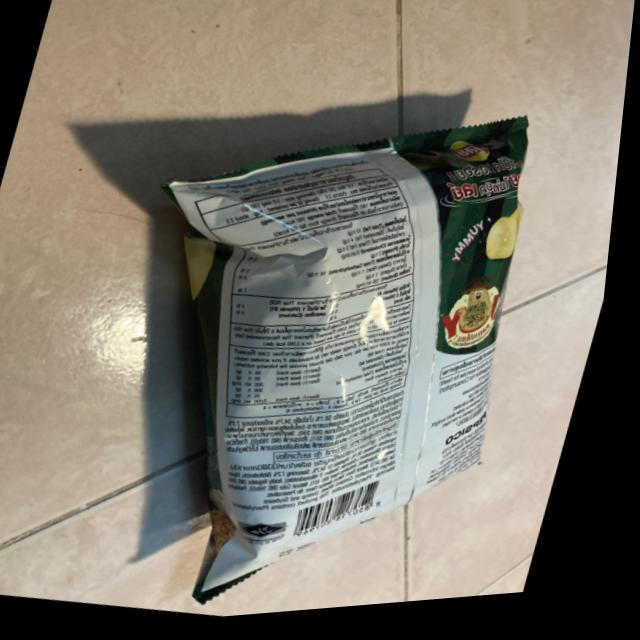Laygreen: (52, 60, 583, 633)
